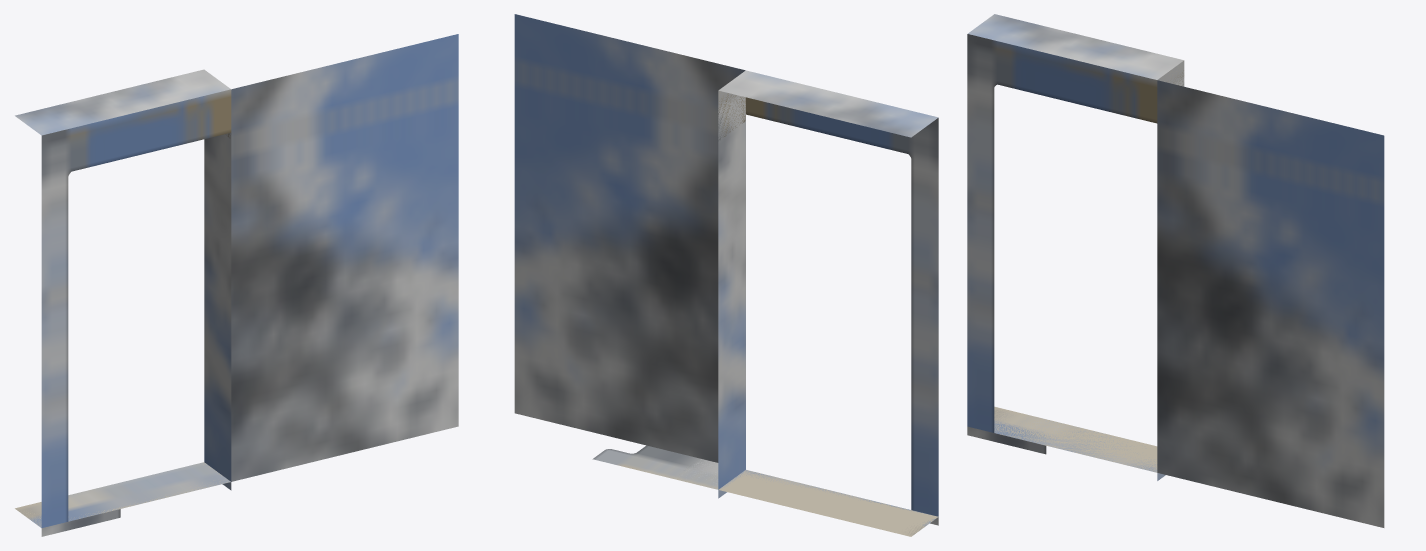
The model's file is section-2.obj.
3 views of the same model, side by side, from view 1: azimuth 30°, elevation 25°; view 2: azimuth 150°, elevation 25°; view 3: azimuth 330°, elevation 25° (orthographic).
Bounding box in the file's own units: 1 × 0.92 × 0.1127.
